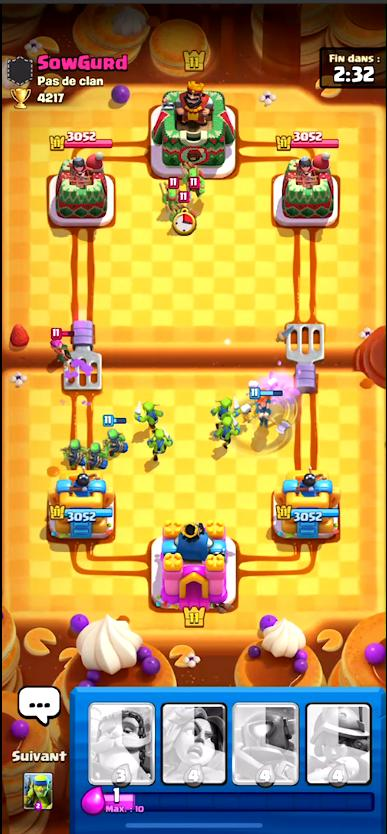archere: (51, 327, 75, 358)
gobelin: (145, 427, 170, 454), (136, 403, 162, 425), (217, 413, 236, 443), (211, 395, 232, 415)
gobelin_lances: (105, 414, 126, 452), (160, 178, 183, 206), (86, 438, 107, 468), (65, 435, 84, 466), (185, 169, 206, 197), (175, 191, 194, 214)
squelette: (269, 377, 284, 395), (239, 401, 251, 423), (245, 378, 256, 390)
valkyrie: (253, 390, 279, 432)
